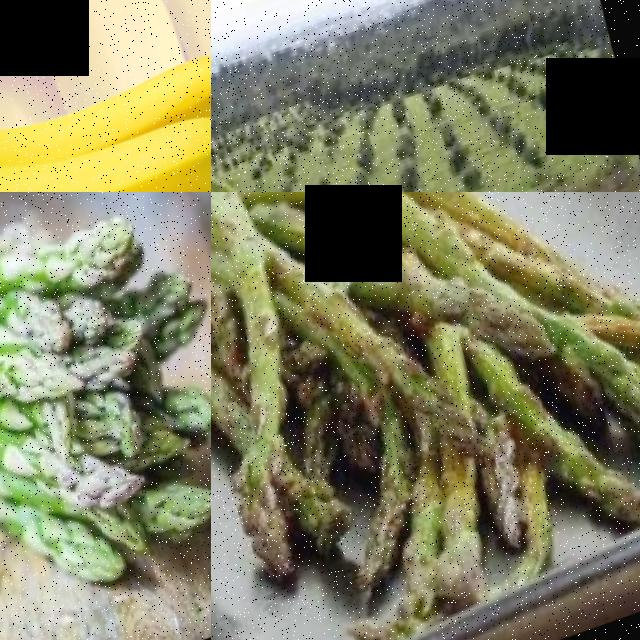asparagus: (298, 247, 439, 494), (398, 236, 559, 451), (211, 192, 335, 471), (0, 433, 162, 568), (0, 196, 157, 332), (0, 340, 99, 447)
banana: (0, 0, 211, 192)
